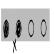correct: (3, 18, 10, 41)
no answer: (28, 18, 34, 38)
not correct: (13, 18, 22, 54)
